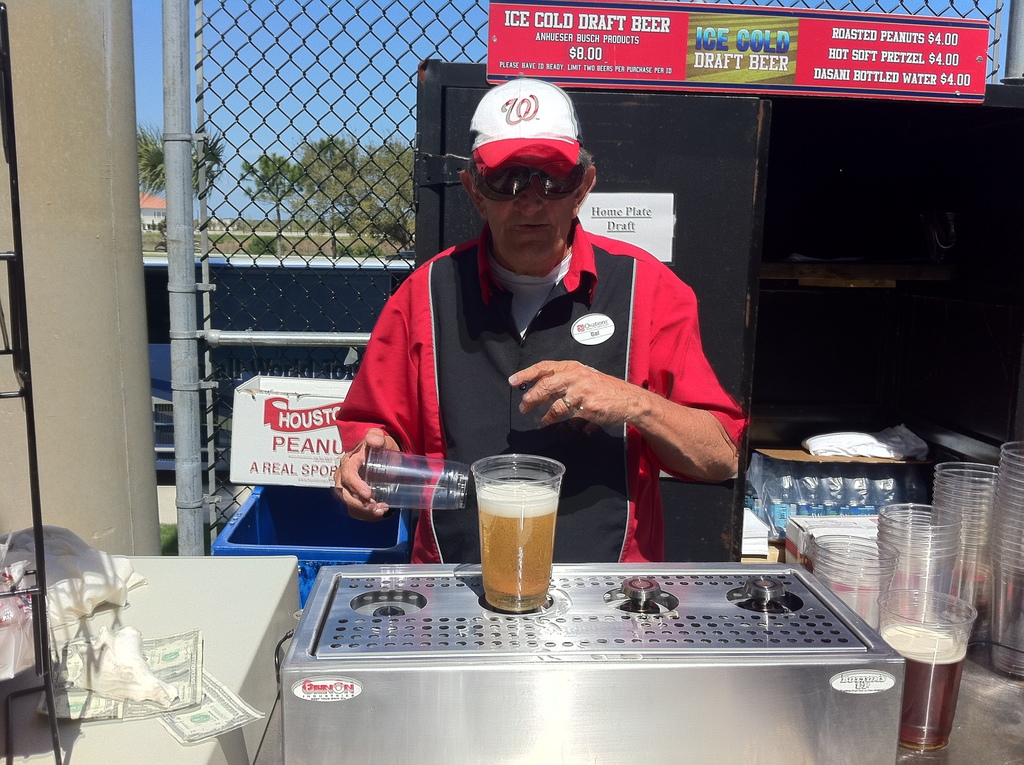Beer: (467, 453, 567, 628)
